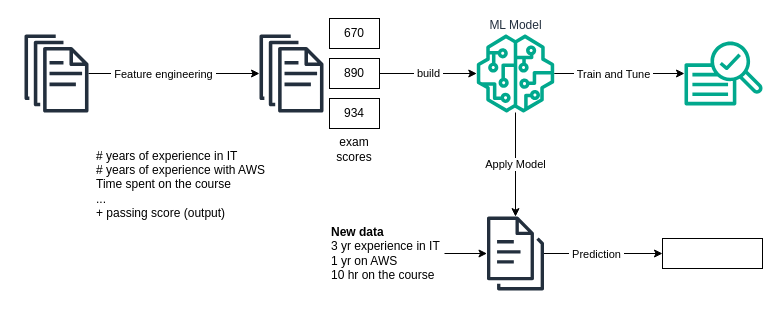
Image size: 780x310. Some labels were removed from this diagram. The box of each missing label's shape, as (x1, y1, x2, y2) in pixels:
Historical Data: (24, 34, 88, 112)
PASS WITH 906: (662, 238, 762, 268)
